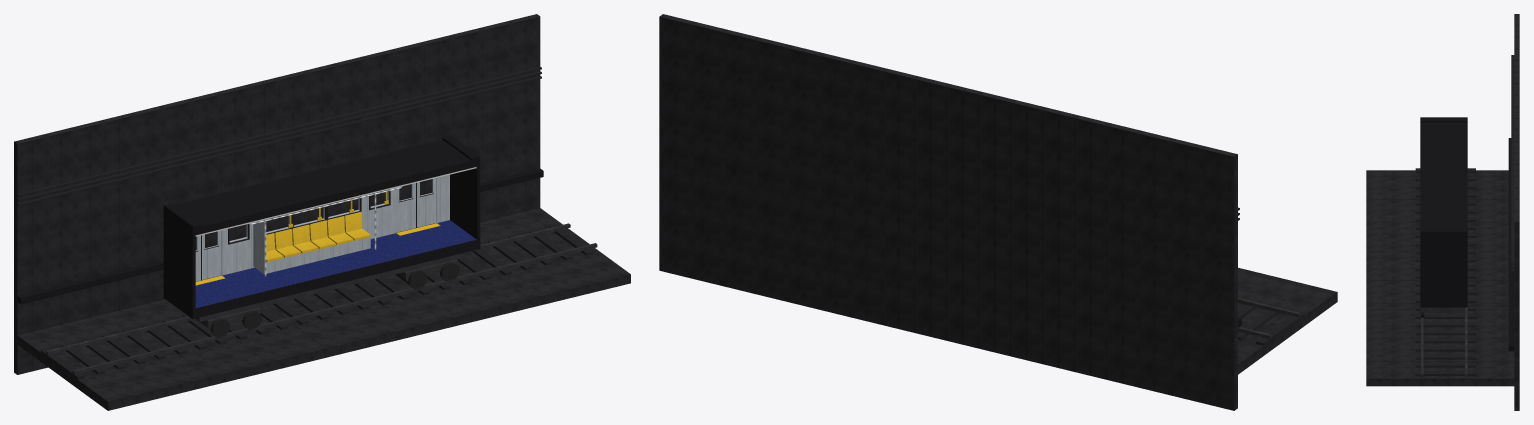
The model's file is SubwayCar.fbx.
3 renders of one model, left to right at view 1: azimuth 30°, elevation 25°; view 2: azimuth 150°, elevation 25°; view 3: azimuth 270°, elevation 25°, orthographic. The views are drawn at different scales.
Visible parts, largest first — view 1: SubwayTunnel, SubwayCar; view 2: SubwayTunnel; view 3: SubwayTunnel, SubwayCar.
Boxes of the visible parts, left/top/right/bottom form: SubwayTunnel: left=14, top=14, right=630, bottom=410; SubwayCar: left=163, top=135, right=480, bottom=337; SubwayTunnel: left=659, top=14, right=1337, bottom=410; SubwayTunnel: left=1366, top=14, right=1519, bottom=410; SubwayCar: left=1420, top=117, right=1467, bottom=317.
Size of the model in its own units: 18 by 7.6 by 5.6.
